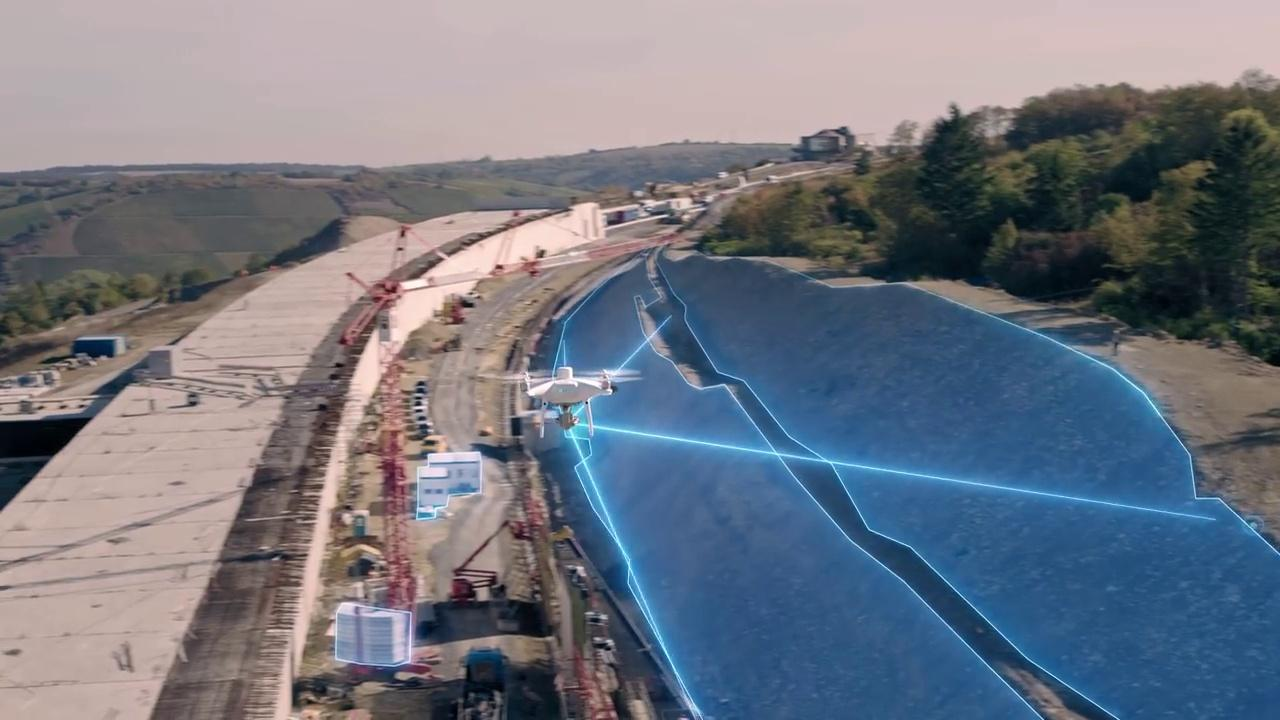drone: (481, 362, 646, 439)
